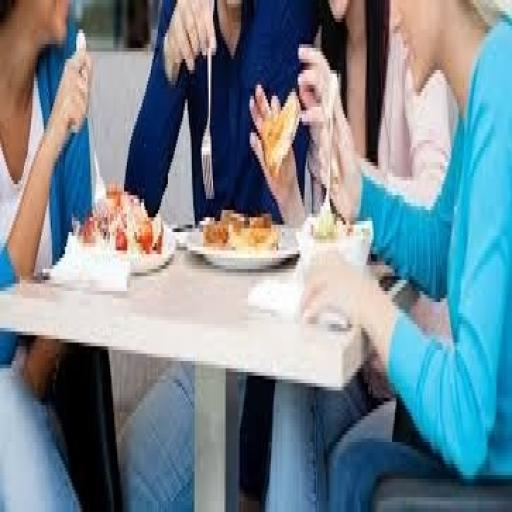eating: (0, 0, 509, 508)
